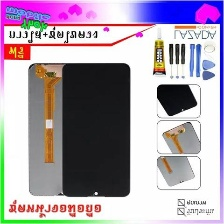phone: (58, 61, 133, 198), (27, 61, 93, 198)
